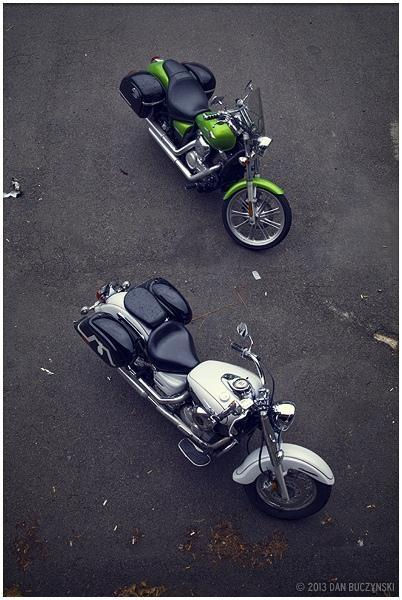motorcycle: (75, 278, 336, 526), (120, 56, 294, 248)
